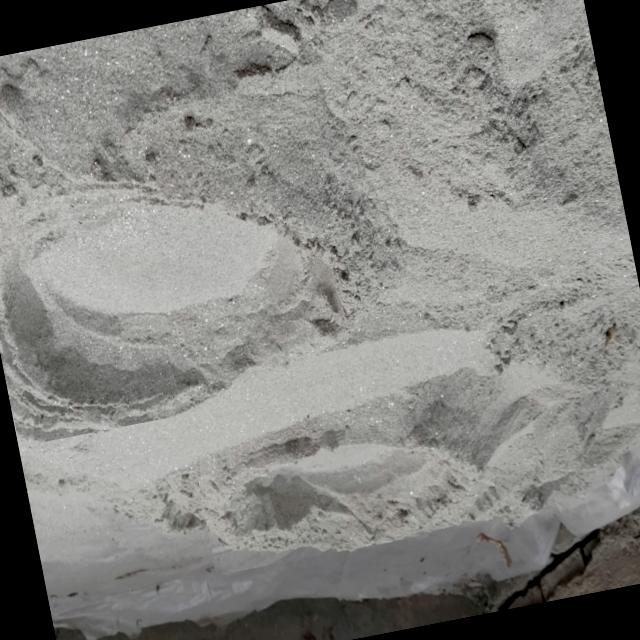C20: (0, 200, 362, 440), (199, 441, 479, 551)
